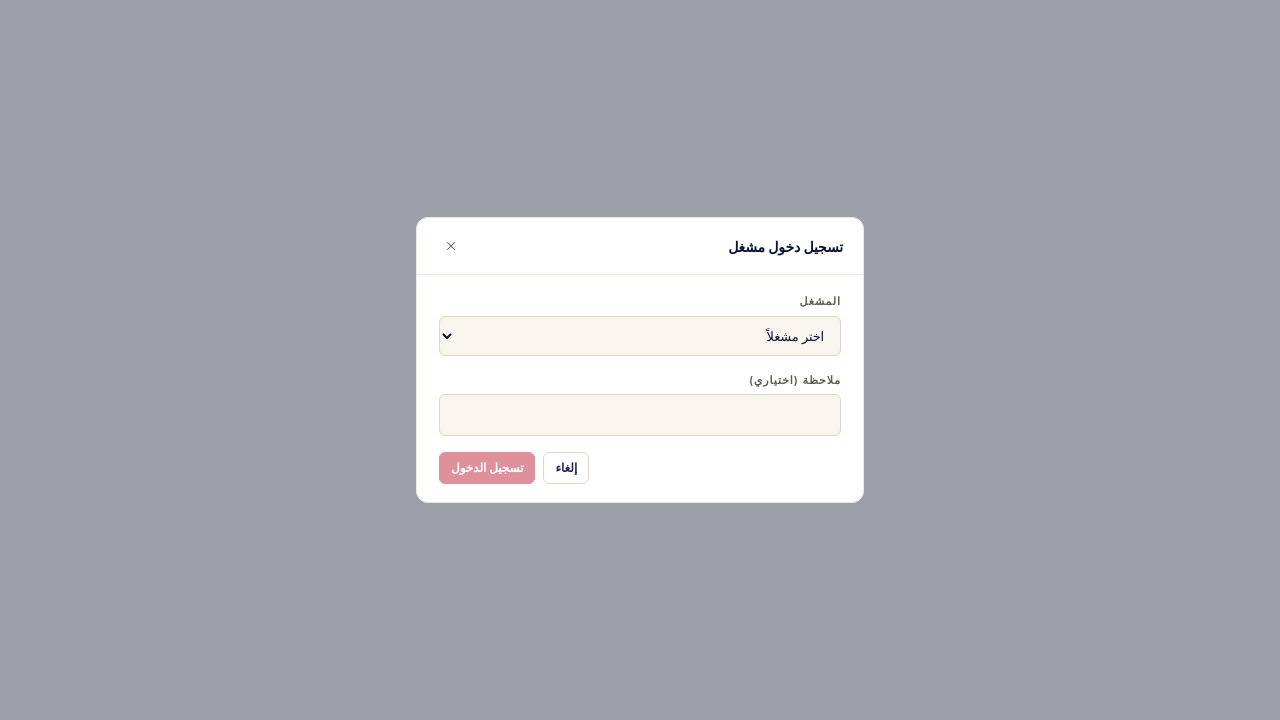
Scenario: Phase-09 §8 component-render: ClockInDialog (dir=rtl) › surfaces the raw error.message in the banner and does NOT close the dialog on failure
The image size is (1280, 720).
Select "Neda" in the dropdown labelled "المشغل" at [640, 336], box [439,316,841,356]
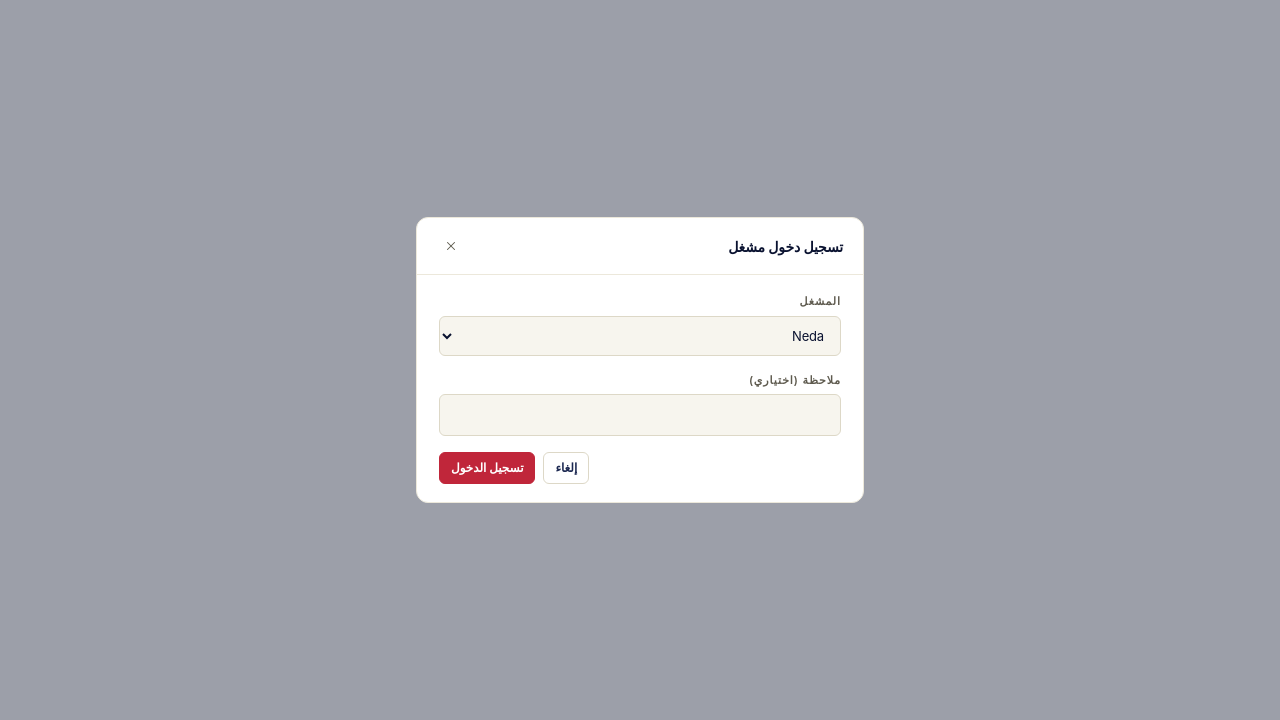
Submit the form, box [416,217,864,503]
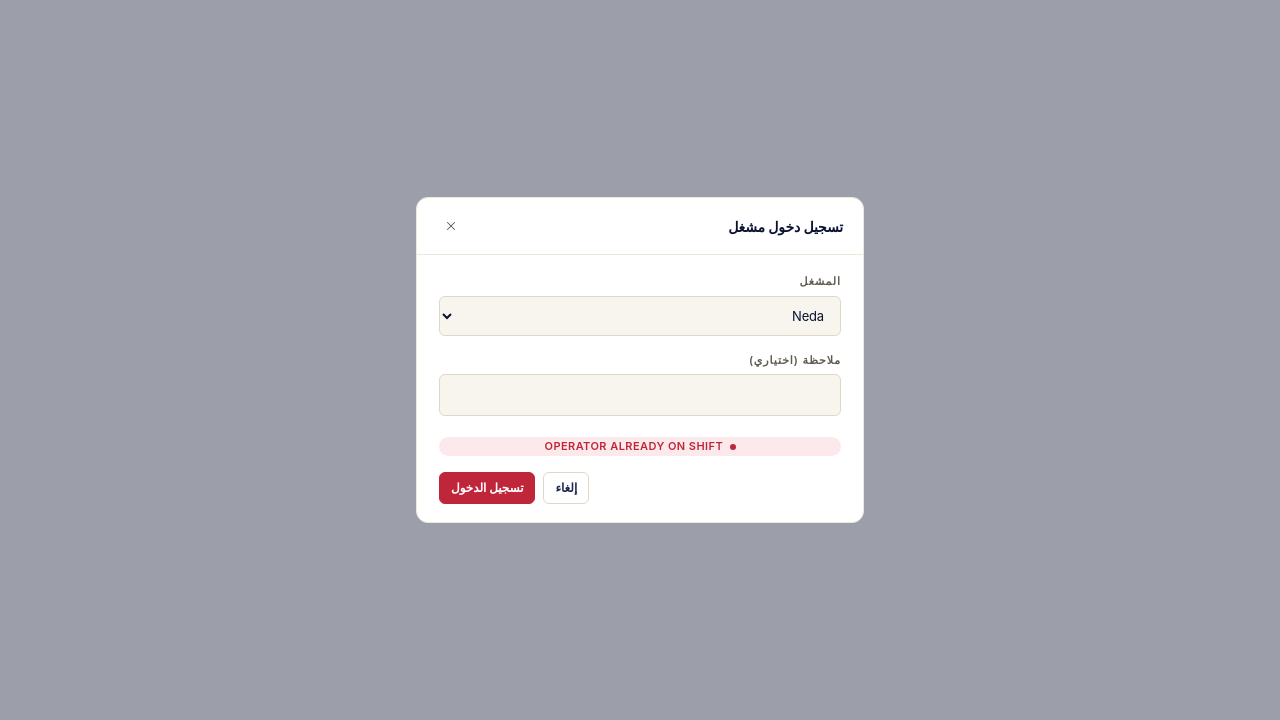
Expected: the form shows "operator already on shift", [544,439,723,453]
